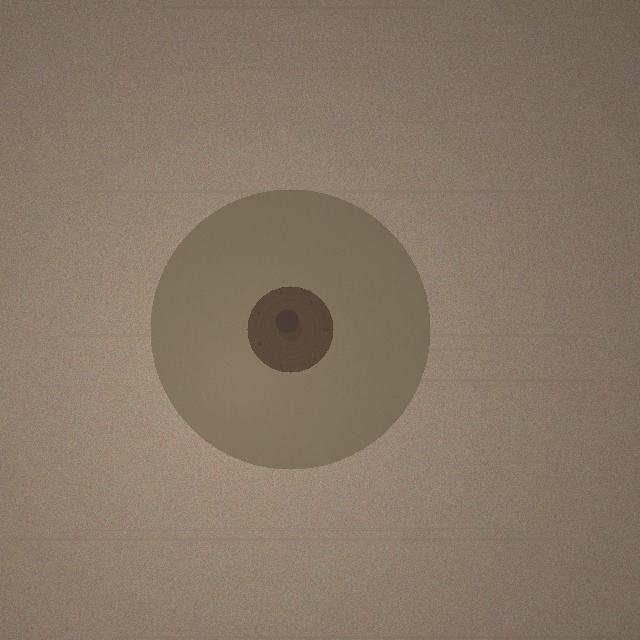cold_weld: (150, 189, 430, 469)
